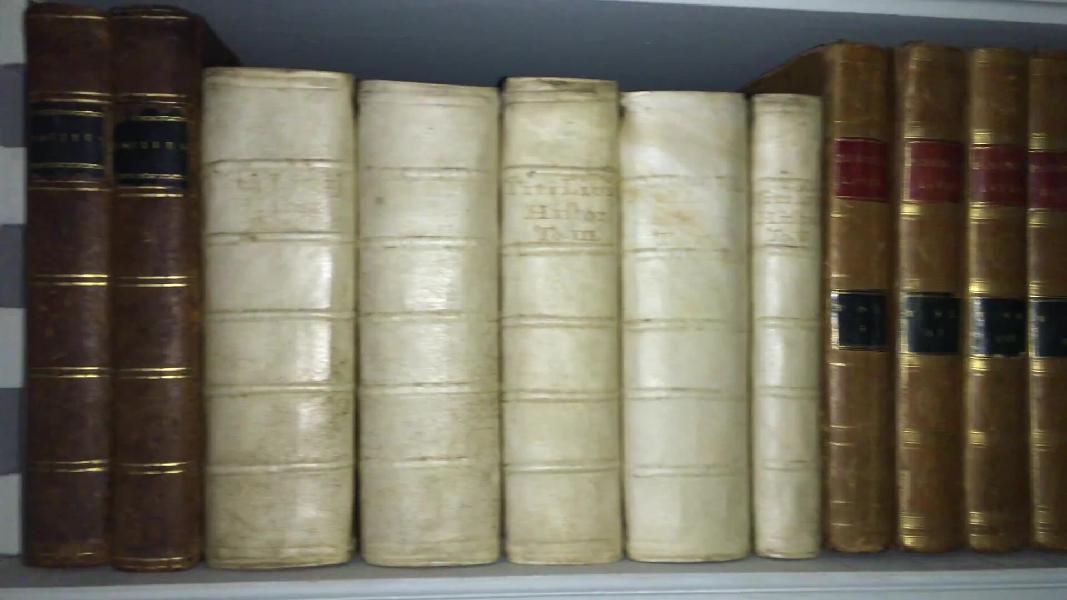Kk4-1_2: (26, 6, 207, 591)
Kk4-3_7: (204, 50, 819, 588)
Kk4-8_13: (826, 38, 1067, 564)
